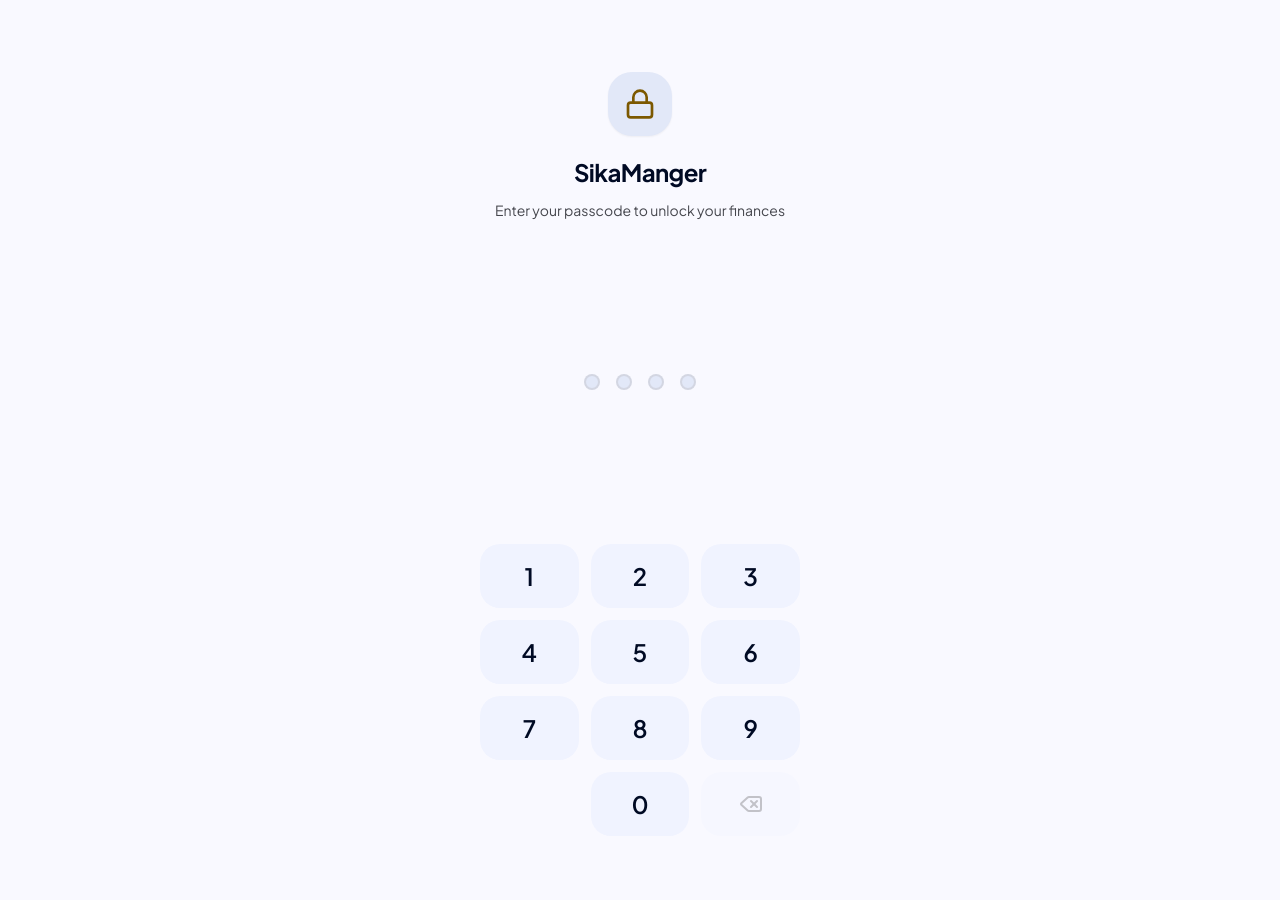
Test case: New Features: LaunchScreen, Salary/Stipends, Passcode/Biometrics, Light Mode Enforced › prompts LockScreen when lockEnabled and passcodeHash exist, and unlocks with correct PIN
Expected: the text "Enter your passcode to unlock your finances" is shown, [495,200,785,220]
// Press keypad: 4, 3, 2, 1
Click the button "4" at (529, 652), box [480,620,579,684]
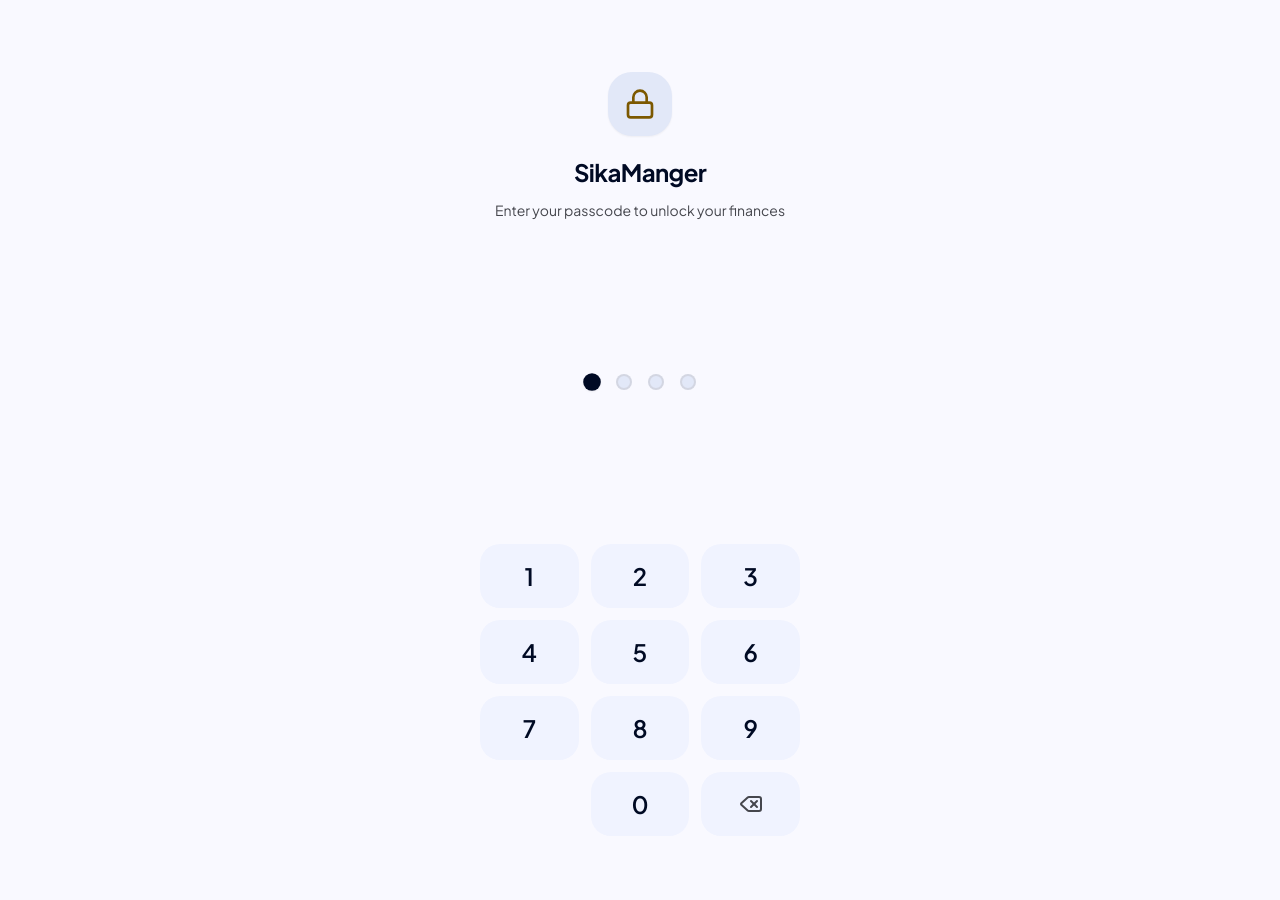
Click the button "3" at (751, 576), box [701,544,800,608]
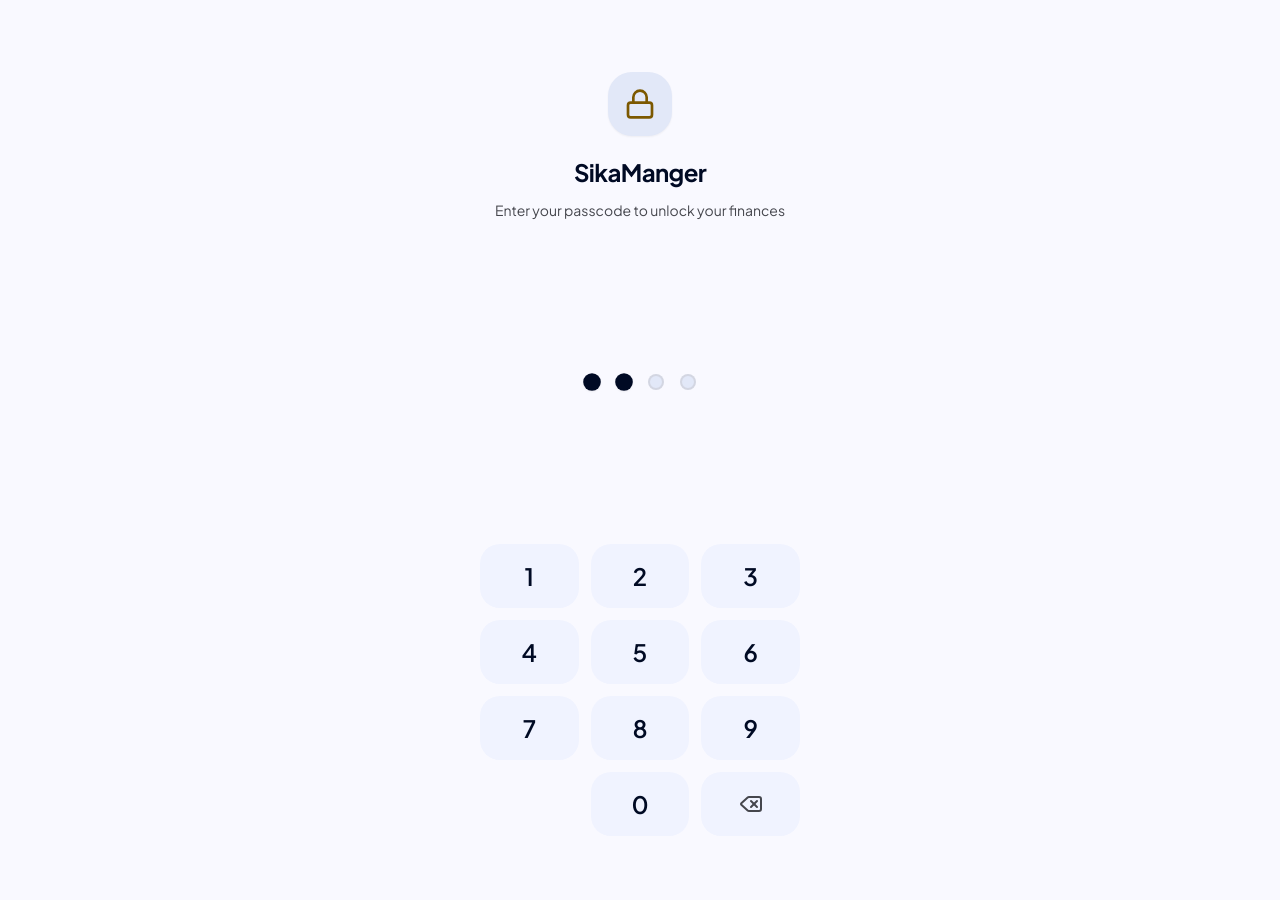
Click the button "2" at (640, 576), box [591,544,689,608]
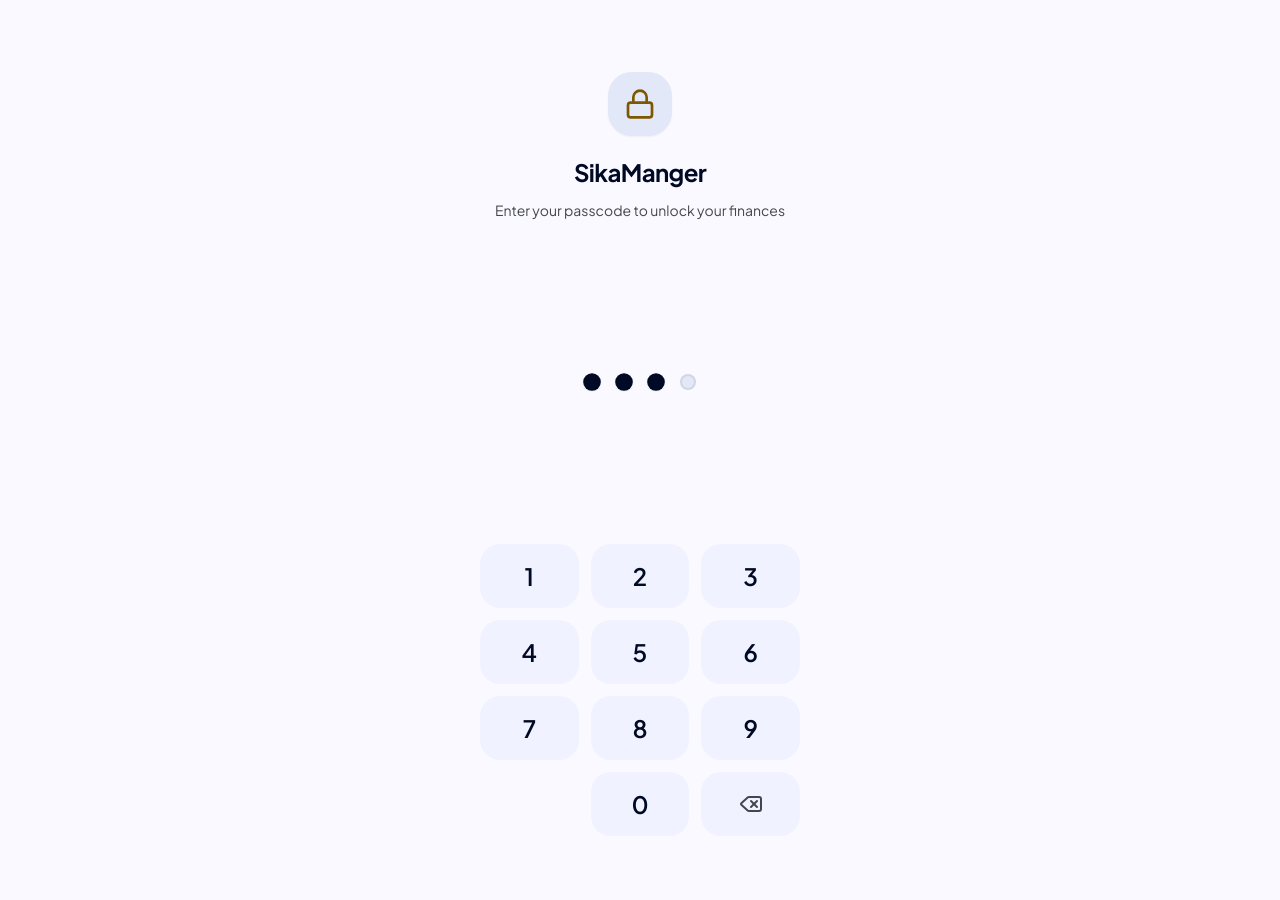
Click the button "1" at (529, 576), box [480,544,579,608]
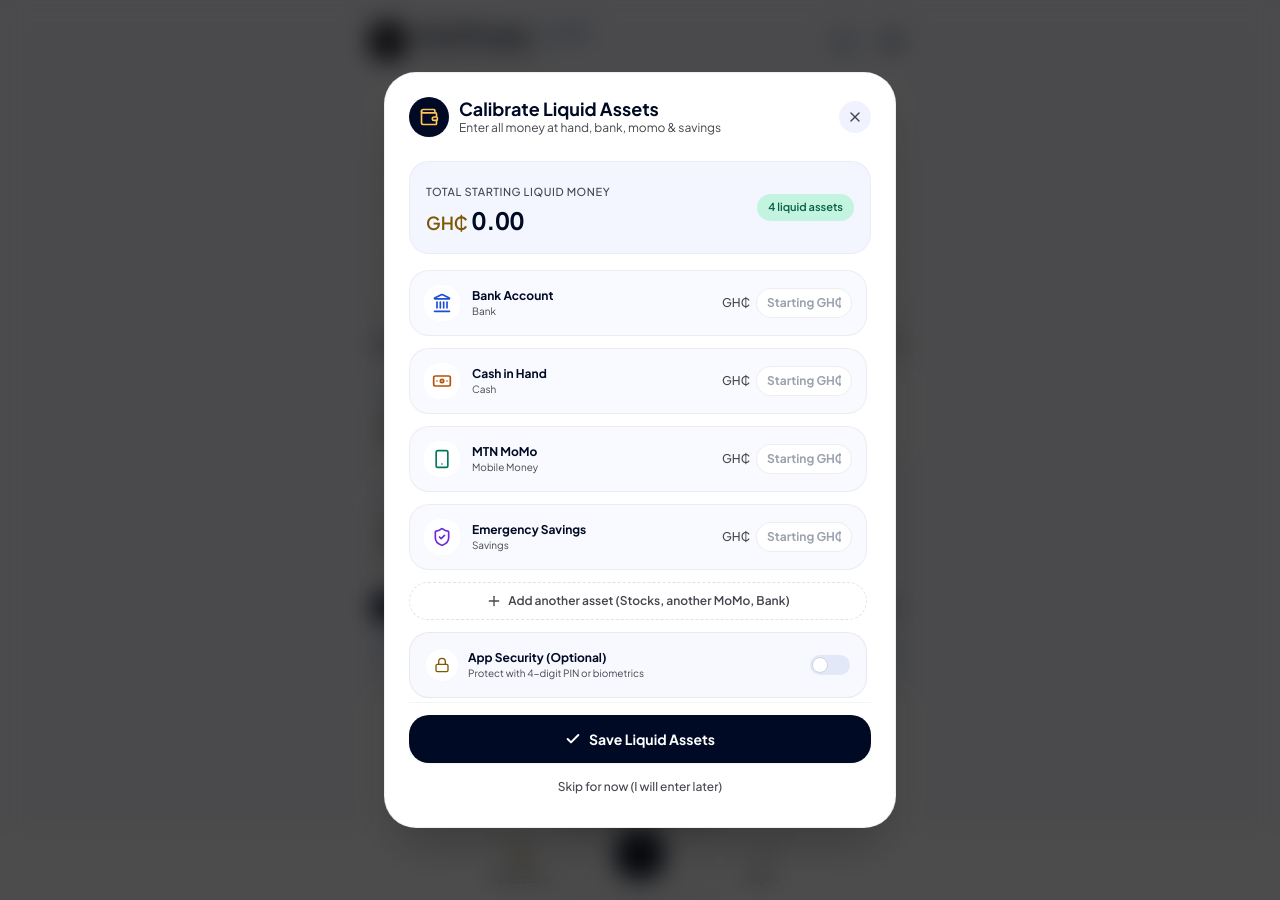
Now the text "Total Balance" is shown, box [393,104,495,120]
